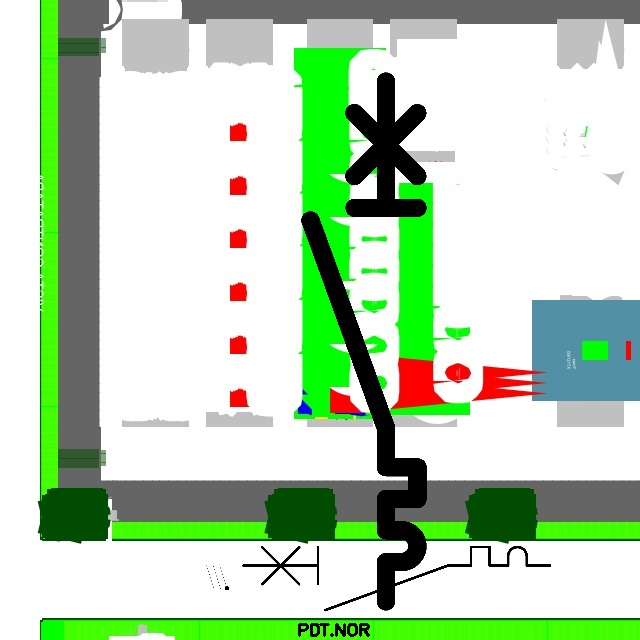interruptor_termomagnetico: (297, 68, 431, 615), (235, 539, 558, 618)
